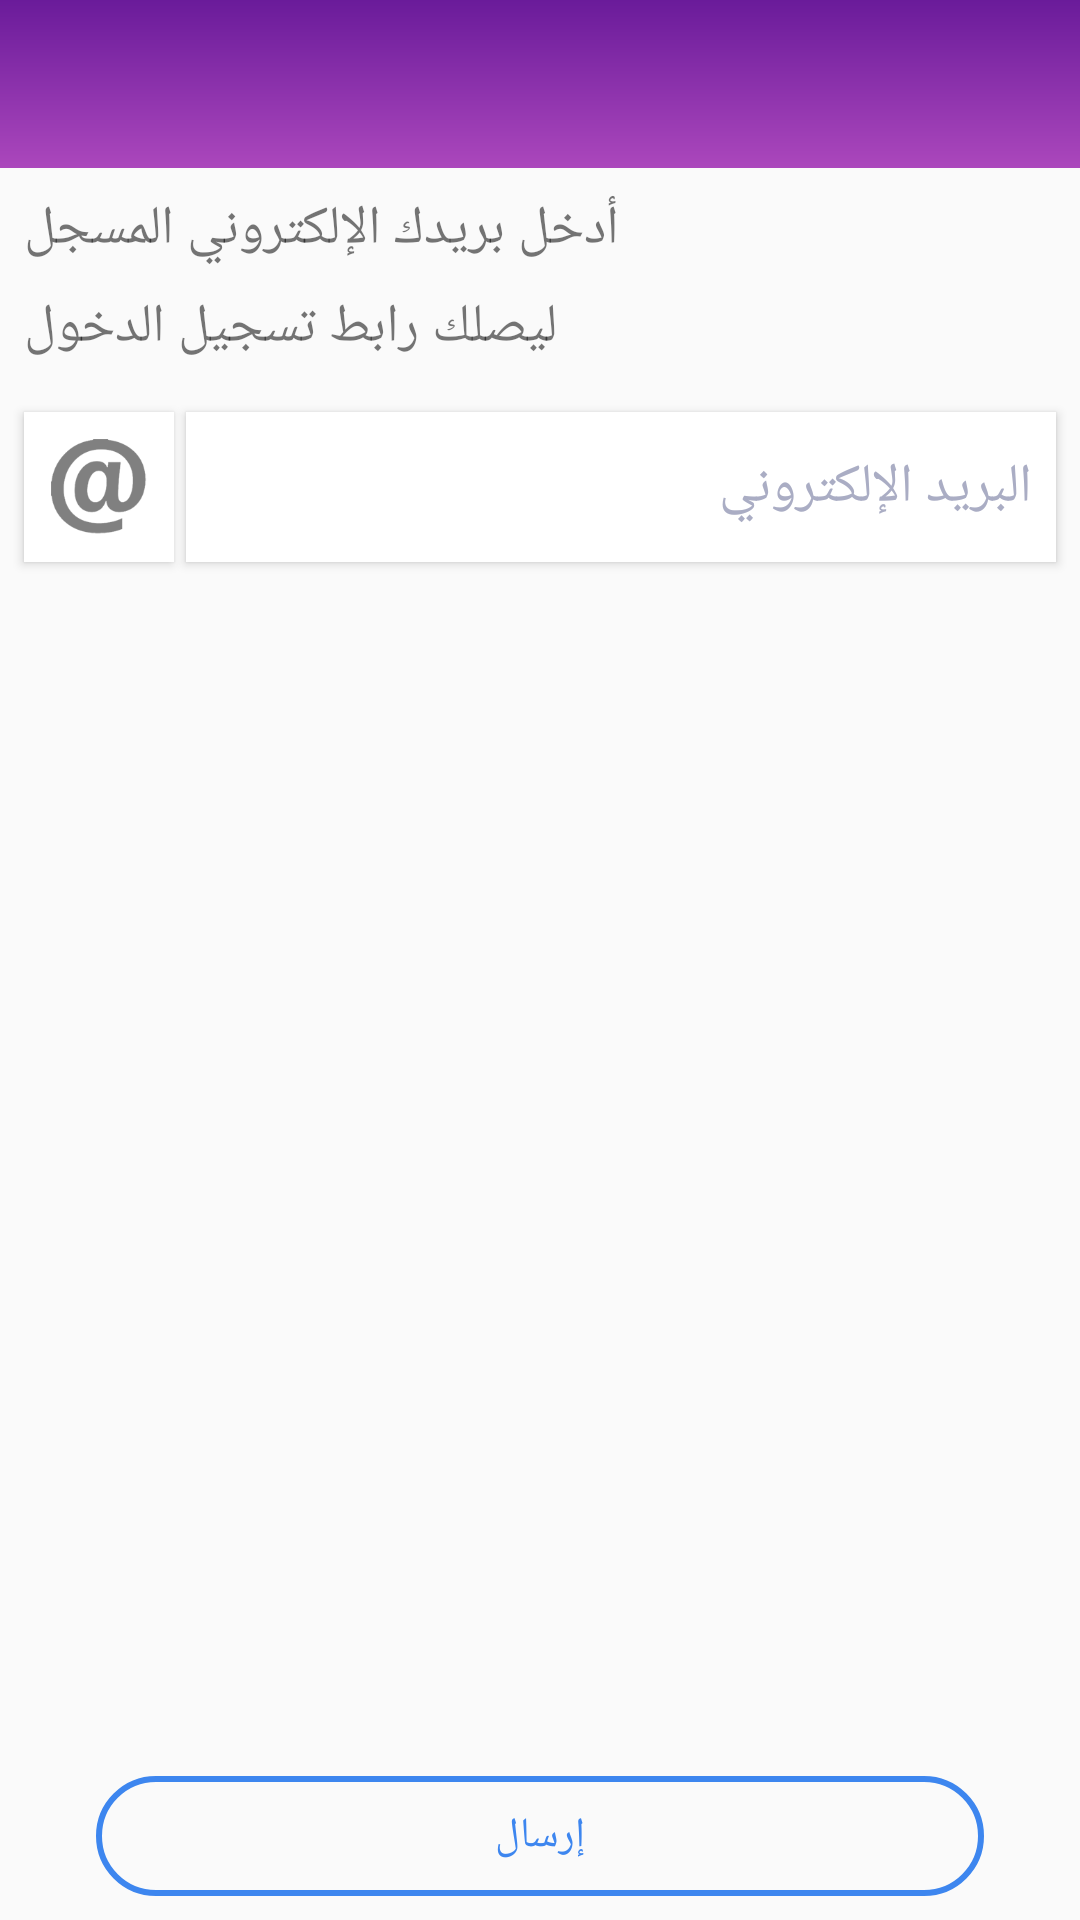

Locate icon controls on the screen. Image size 1080px×1920px, boxes as (x1, y1, x2, y2).
email: (51, 439, 146, 534)
